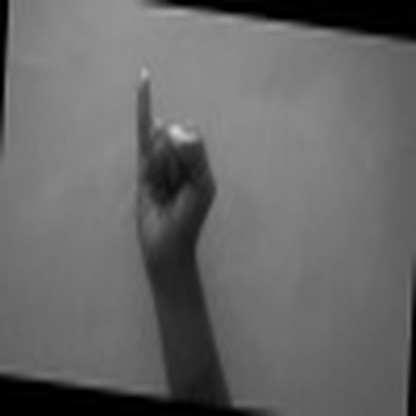i: (113, 52, 233, 307)
